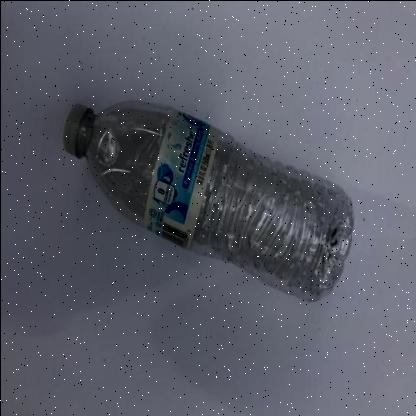Plastic Bottle: (62, 101, 353, 300)
